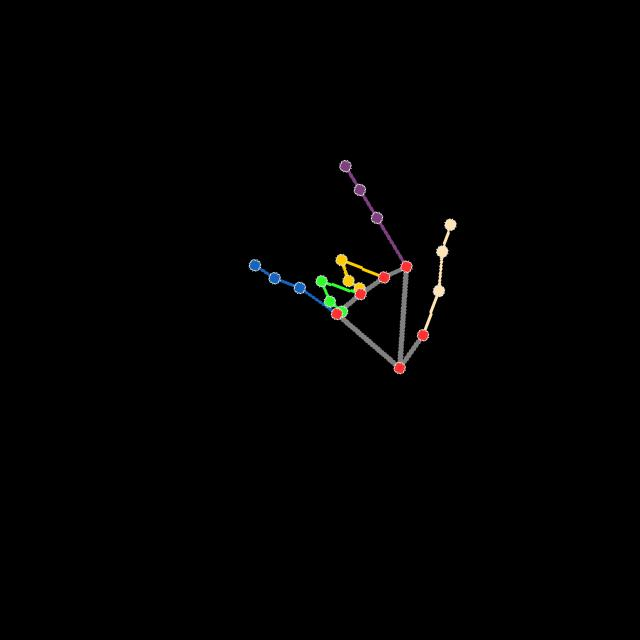spiderman: (246, 158, 460, 378)
